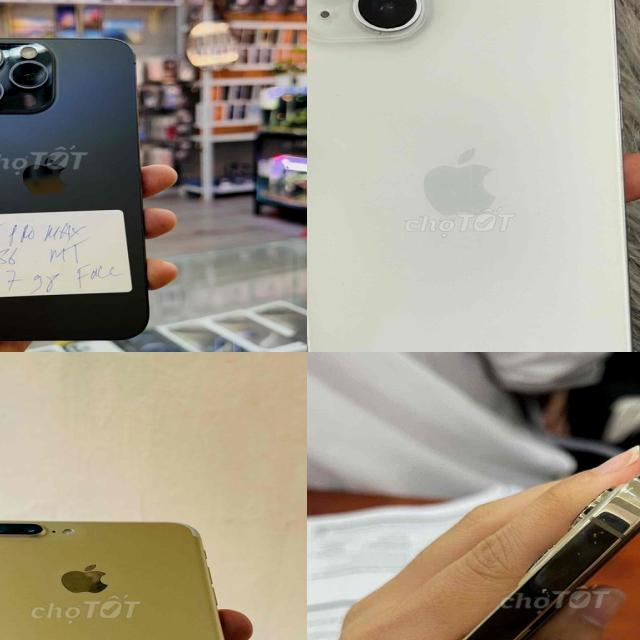gen_12_13: (363, 467, 640, 640)
gen_15: (307, 0, 640, 352), (0, 3, 159, 352)
gen_7_8: (0, 520, 223, 640)
